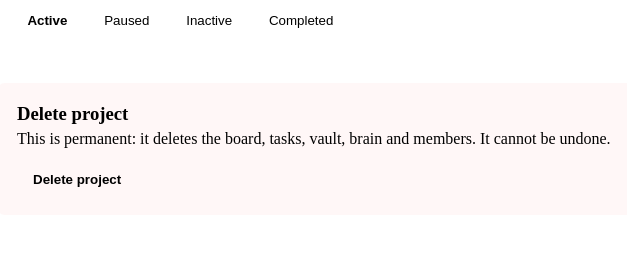
Test: ProjectLifecyclePanel › cancels the delete confirmation
The image size is (627, 279).
Step 1. Click the button "Delete project" → (77, 180), box x1=17 y1=164 x2=137 y2=195
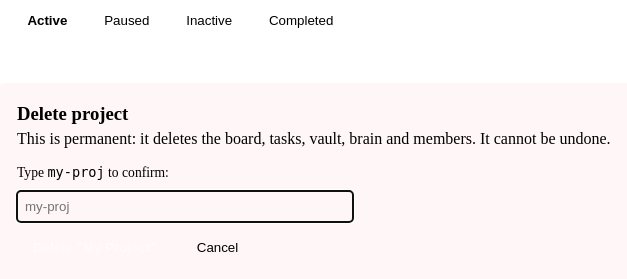
Step 2. Type "partial" into the field with placeholder "my-proj" → (185, 206), box x1=17 y1=191 x2=353 y2=222
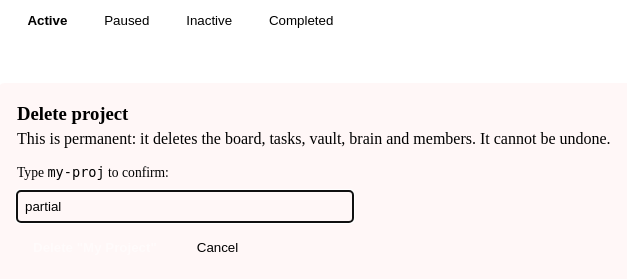
Step 3. Click the button "Cancel" → (218, 247), box x1=181 y1=232 x2=254 y2=263
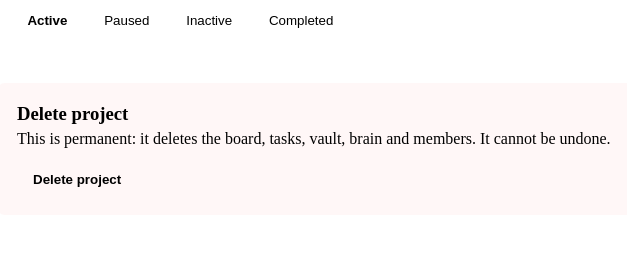
Check: the button "Delete project" is shown, box x1=17 y1=164 x2=137 y2=195
Check: the text with placeholder "my-proj" is gone
